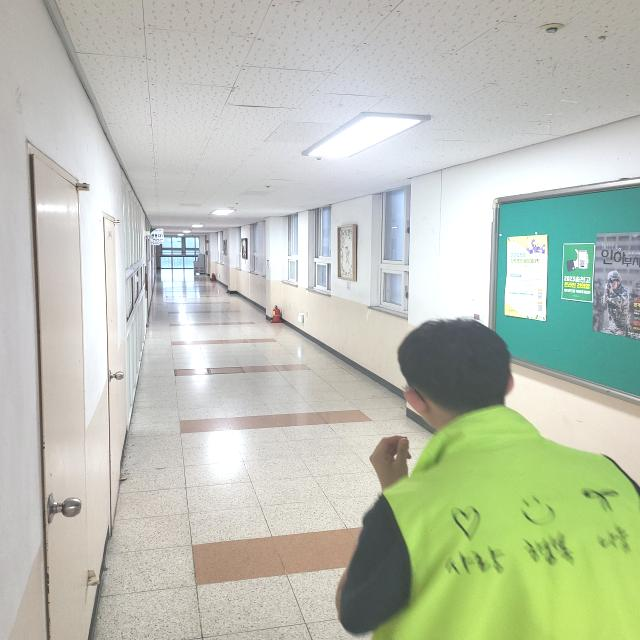weston_spy: (349, 403, 640, 640)
